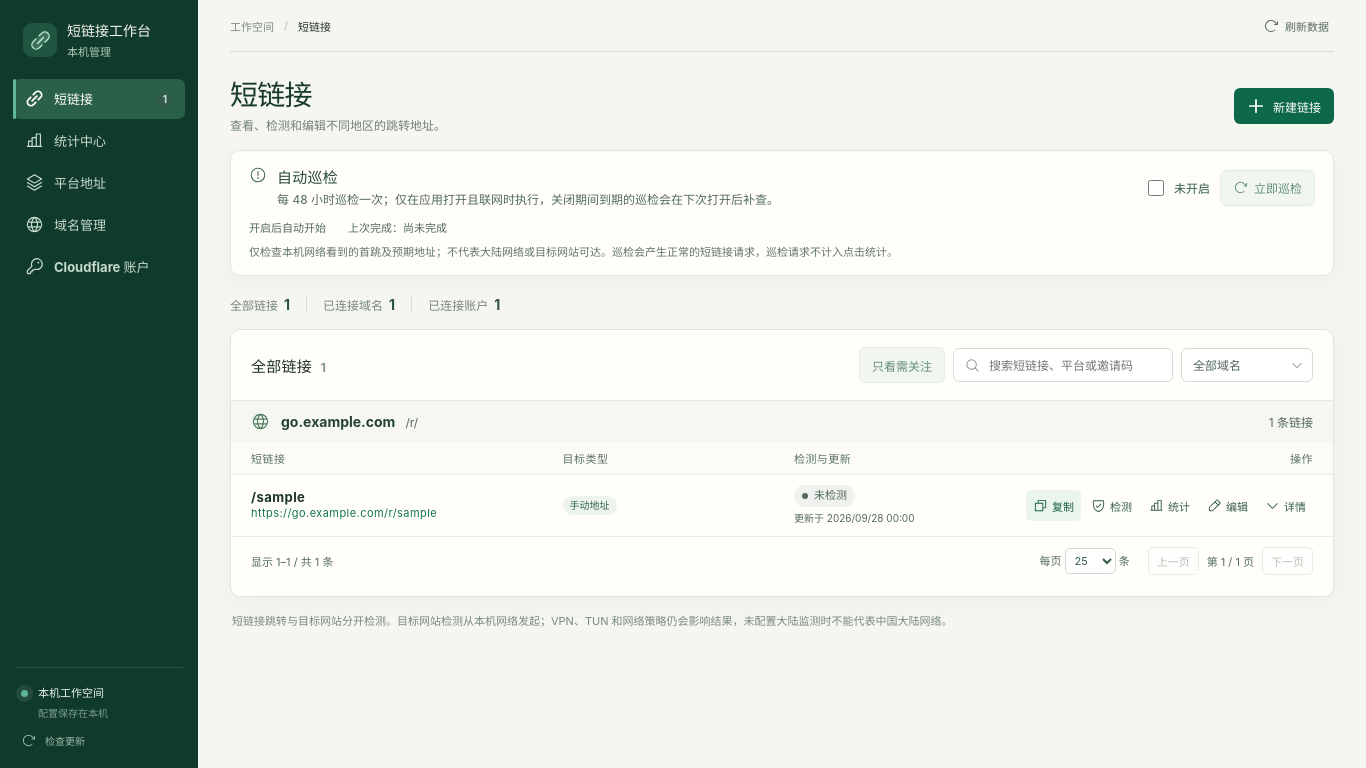
Test: explicit VPN retry › uses public DNS only after consent and retries targets without credentials or route checks
The width and height of the screenshot is (1366, 768).
Expected: the text "/sample" is shown, x1=251 y1=489 x2=305 y2=505
Click the button with aria-label "检测 sample" at {"x": 1112, "y": 506}, box x1=1084 y1=490 x2=1139 y2=521
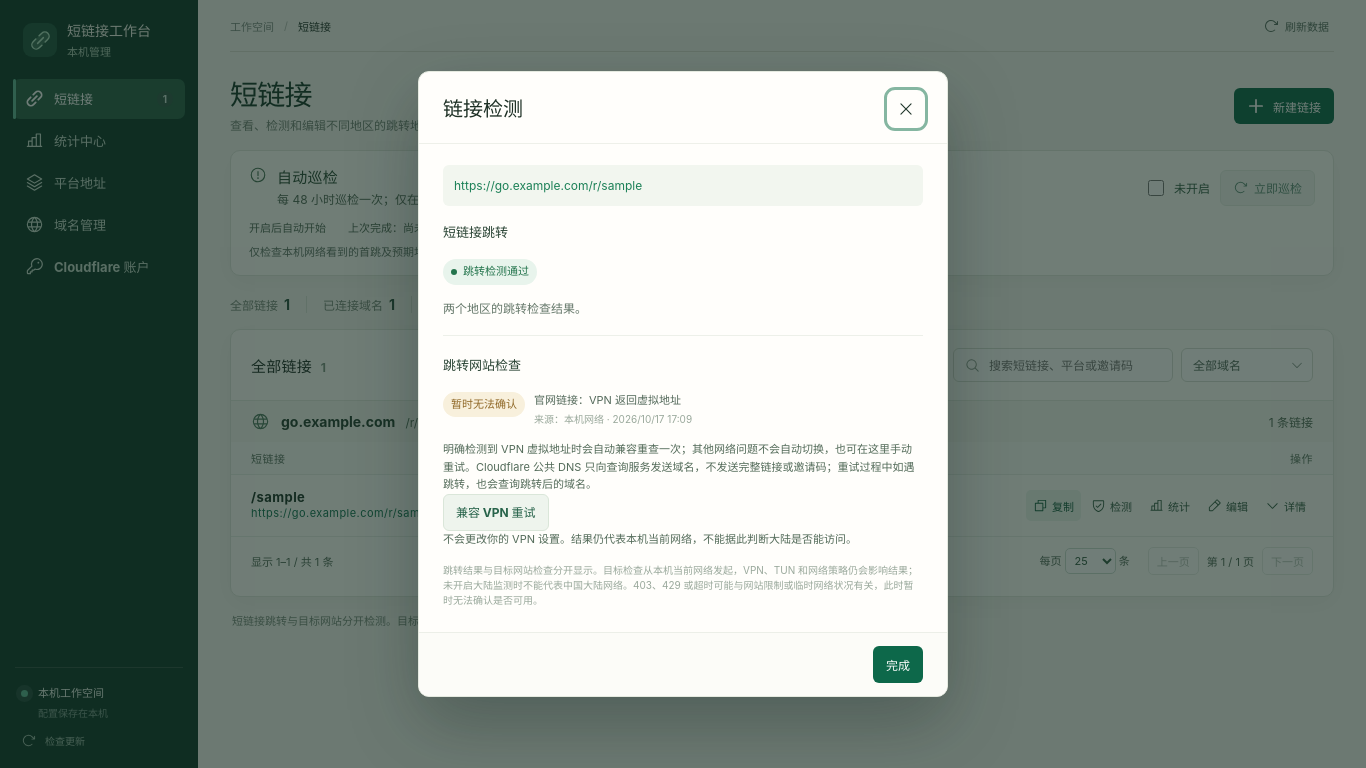
Now the text "只向查询服务发送域名" is shown, box x1=443 y1=442 x2=914 y2=492
Click the button "兼容 VPN 重试" at {"x": 496, "y": 513}, box x1=443 y1=494 x2=549 y2=531
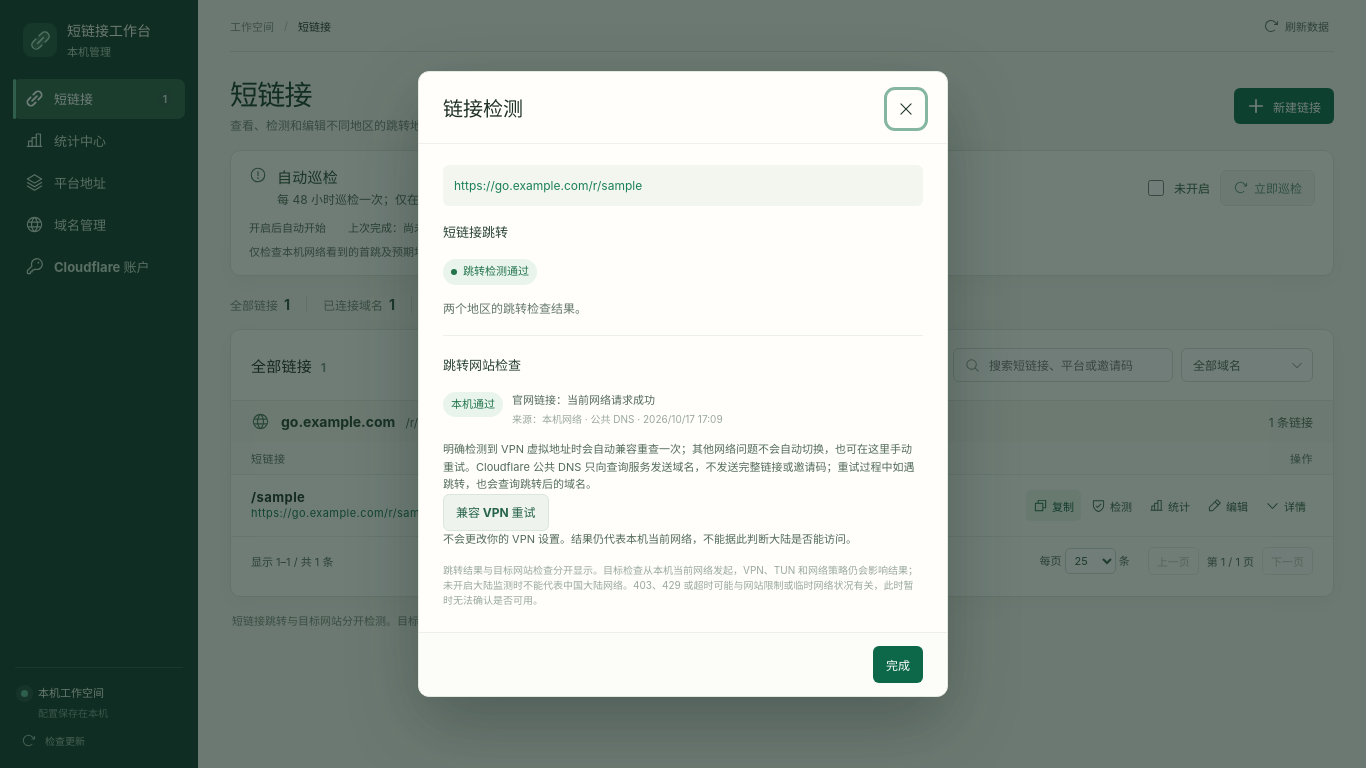
Now the text "跳转检测通过" is shown, box x1=443 y1=259 x2=537 y2=285
Now the text "官网链接：当前网络请求成功 来源：本机网络 · 公共 DNS · 2026/10/17 17:09" is shown, box x1=512 y1=392 x2=723 y2=427
Now the text "来源：本机网络 · 公共 DNS · 2026/10/17 17:09" is shown, box x1=512 y1=412 x2=723 y2=427
